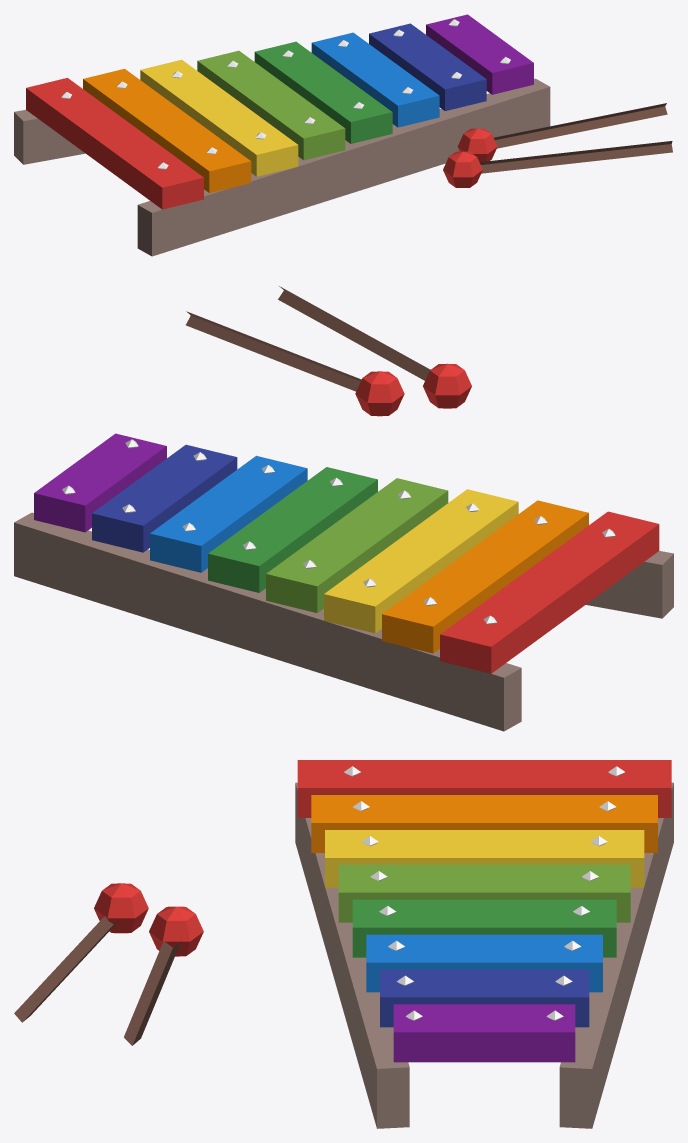
File: xylofon.glb
3 renders of one model, top to bottom at view 1: azimuth 30°, elevation 25°; view 2: azimuth 150°, elevation 25°; view 3: azimuth 270°, elevation 25°, orthographic. The views are drawn at different scales.
Parts seen in each view (by area): view 1: xylofon; view 2: xylofon; view 3: xylofon.
Boxes of the visible parts, x1,y1,x2,y2 form: xylofon: (14,14,672,256); xylofon: (14,286,673,731); xylofon: (14,760,673,1128).
Size of the model in its own units: 0.6608 by 0.125 by 0.5995.
